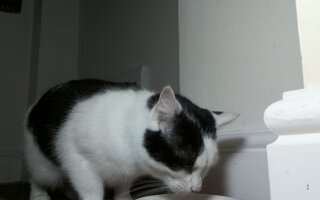bad: (21, 76, 242, 200)
